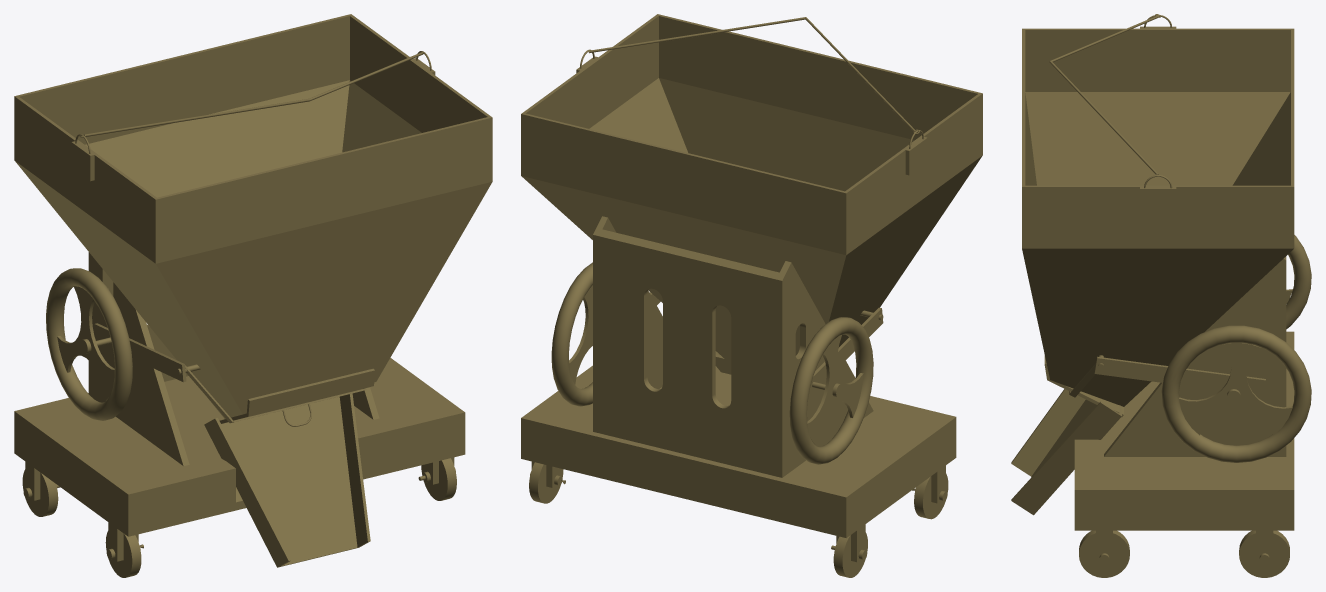
File: hopper56.fbx
The picture shows the model from 3 angles, left to right: view 1: azimuth 30°, elevation 25°; view 2: azimuth 150°, elevation 25°; view 3: azimuth 270°, elevation 25°; orthographic projection. The views are drawn at different scales.
Parts seen in each view (by area): view 1: Part; view 2: Part; view 3: Part.
Boxes of the visible parts, x1,y1,x2,y2 form: Part: (14, 14, 492, 577); Part: (521, 14, 982, 577); Part: (1011, 14, 1311, 577).
Size of the model in its own units: 11292 by 14293 by 8826.
